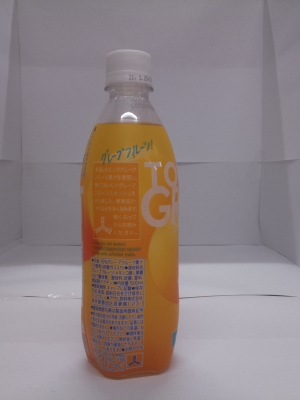grapefruits: (60, 37, 193, 389)
